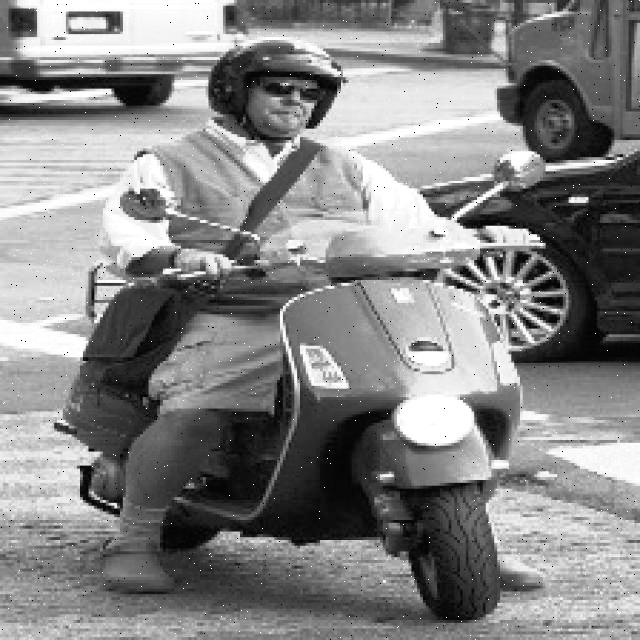Bike: (88, 212, 523, 621)
